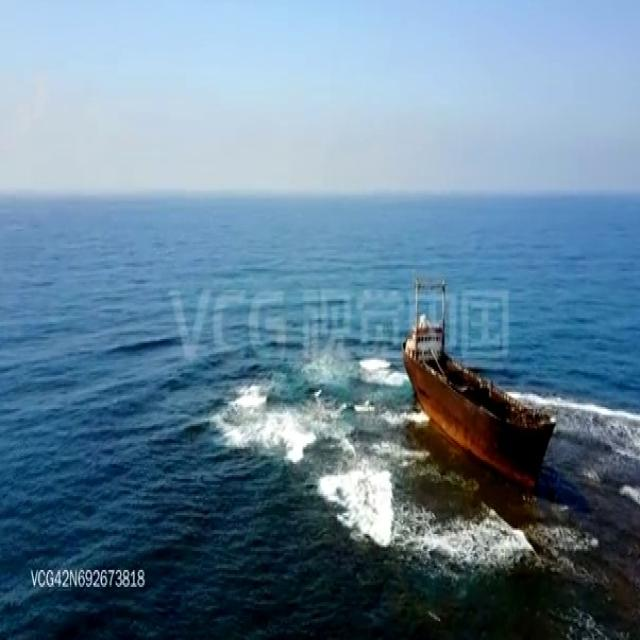cargoship: (402, 276, 555, 481)
